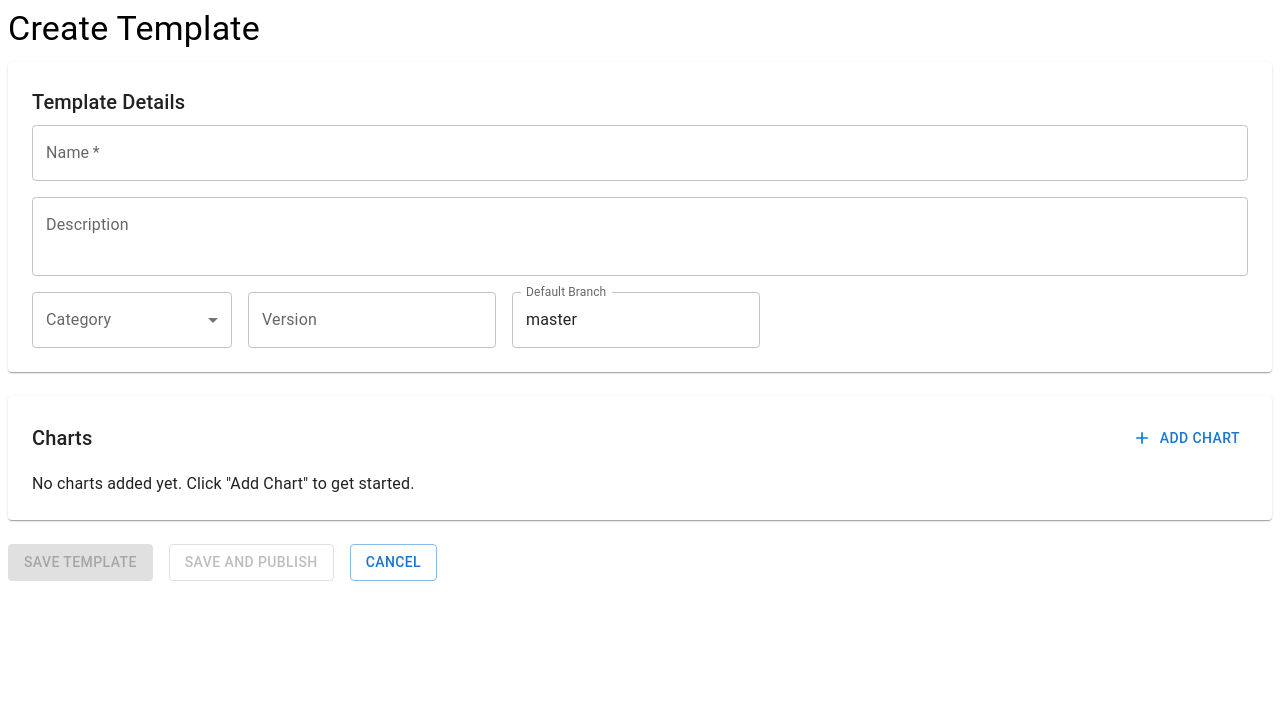
Test case: Templates Builder › adds a chart when Add Chart is clicked
Click the button "Add Chart".
click(1188, 438)  # box [1128,420,1248,456]
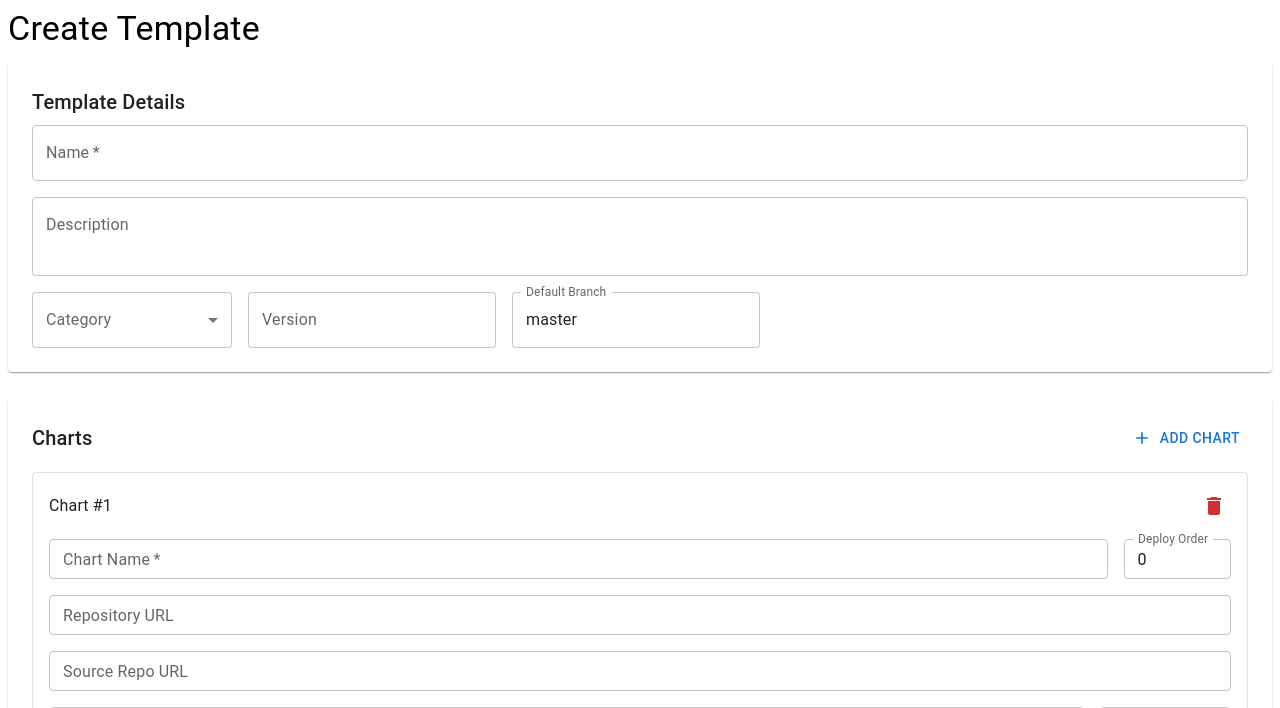
Expected: the heading "Chart #1" is shown, [49,492,112,520]
